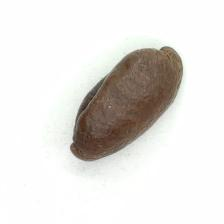NG: (72, 71, 110, 146)
